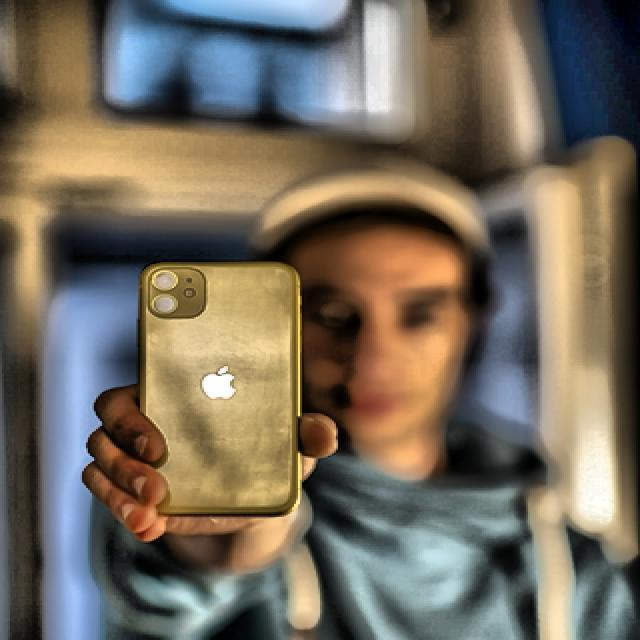Phone: (133, 259, 305, 517)
